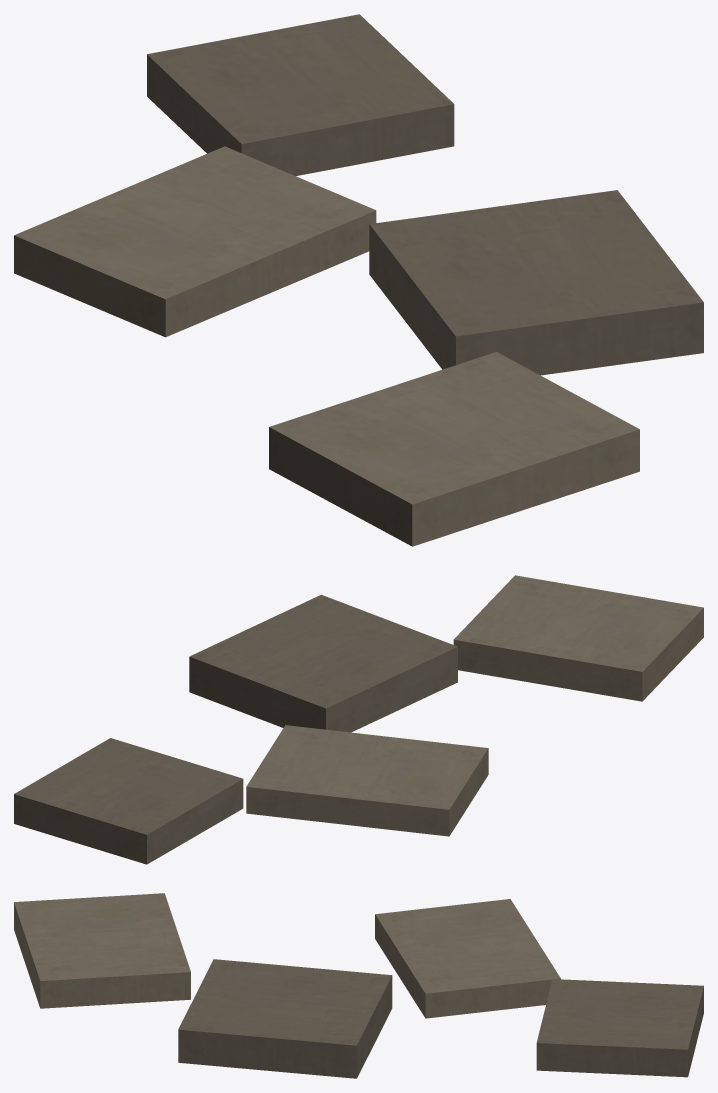
The model's file is stepping_stone_02.glb.
3 views of the same model, one above another, from view 1: azimuth 30°, elevation 25°; view 2: azimuth 150°, elevation 25°; view 3: azimuth 270°, elevation 25° (orthographic). The views are drawn at different scales.
Parts seen in each view (by area): view 1: stepping_stone_02; view 2: stepping_stone_02; view 3: stepping_stone_02.
Part boxes in pixels (x1=…): stepping_stone_02: x1=14, y1=14, x2=703, y2=546; stepping_stone_02: x1=14, y1=575, x2=703, y2=864; stepping_stone_02: x1=14, y1=893, x2=703, y2=1078.
Size of the model in its own units: 1.23 by 0.12 by 2.27.
Materials: 2 (2 with a texture image).
